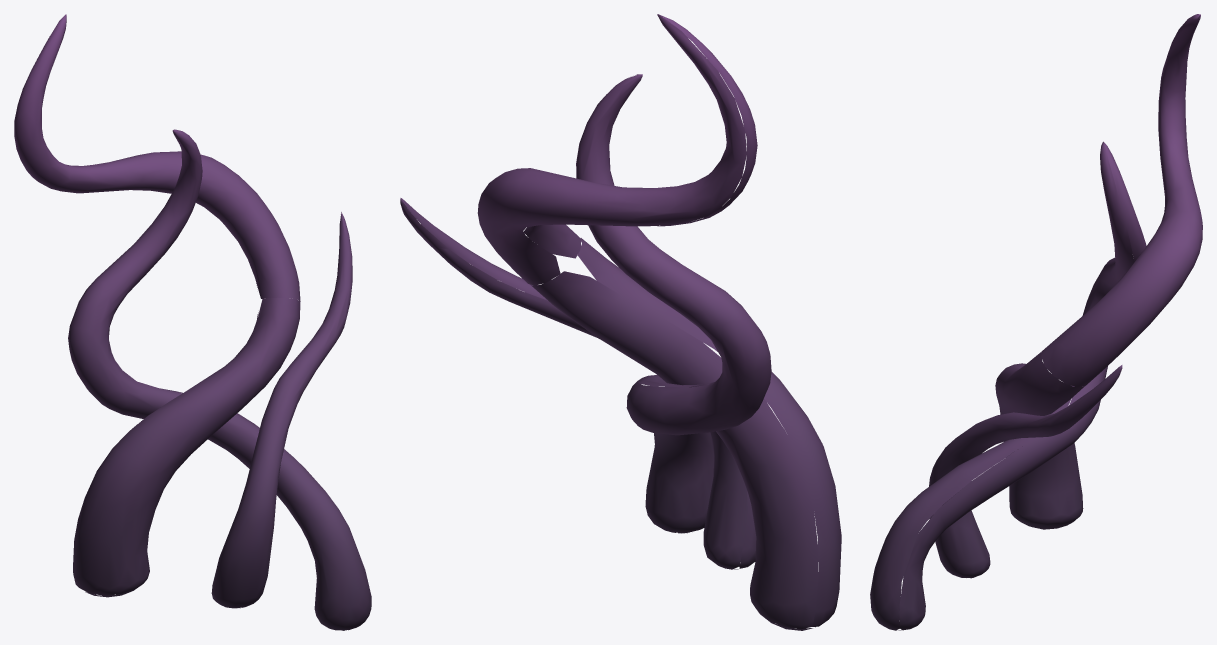
File: lb_tentacle_c.glb
The picture shows the model from 3 angles, left to right: view 1: azimuth 30°, elevation 25°; view 2: azimuth 150°, elevation 25°; view 3: azimuth 270°, elevation 25°; orthographic projection. The views are drawn at different scales.
Visible parts, largest first — view 1: geometry_0; view 2: geometry_0; view 3: geometry_0.
Part boxes in pixels (box(x1,y1,x2,y2)): geometry_0: box(14, 14, 371, 630); geometry_0: box(400, 14, 841, 630); geometry_0: box(870, 14, 1202, 630).
Bounding box in the file's own units: 25.69 × 43.85 × 24.09.
